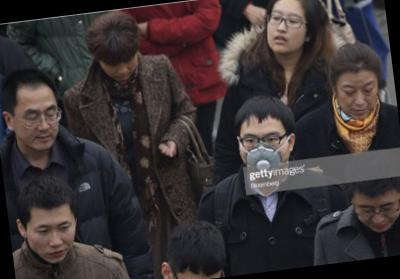with_mask: (236, 126, 295, 181)
without_mask: (27, 216, 83, 268), (13, 101, 64, 156), (262, 3, 312, 57), (336, 76, 384, 123), (355, 194, 400, 235), (101, 53, 141, 84)
